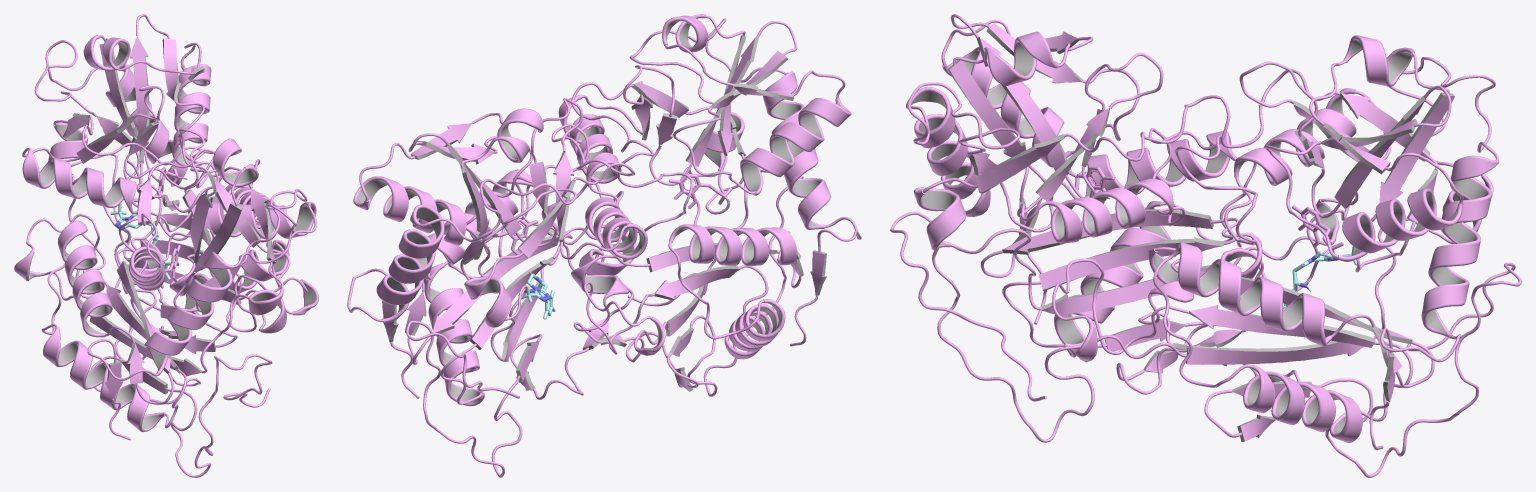
The model's file is Transaminase ERN Poster.gltf.
The picture shows the model from 3 angles, left to right: view 1: azimuth 30°, elevation 25°; view 2: azimuth 150°, elevation 25°; view 3: azimuth 270°, elevation 25°; orthographic projection. The views are drawn at different scales.
Visible parts, largest first — view 1: node-geom133, node-geom135, node-geom136, node-geom134, node-geom132, node-geom137; view 2: node-geom136, node-geom133, node-geom134, node-geom132, node-geom135, node-geom137; view 3: node-geom134, node-geom133, node-geom132, node-geom135, node-geom136.
Boxes of the visible parts, box(x1,y1,x2,y2) form: node-geom133: box(22, 14, 318, 315); node-geom135: box(14, 159, 316, 432); node-geom136: box(129, 128, 316, 375); node-geom134: box(34, 35, 272, 477); node-geom132: box(68, 154, 307, 360); node-geom137: box(87, 329, 190, 440); node-geom136: box(558, 14, 851, 229); node-geom133: box(353, 98, 647, 361); node-geom134: box(347, 108, 803, 398); node-geom132: box(405, 169, 636, 477); node-geom135: box(559, 81, 797, 359); node-geom137: box(790, 178, 861, 346); node-geom134: box(890, 35, 1499, 450); node-geom133: box(1055, 36, 1493, 364); node-geom132: box(1052, 242, 1521, 477); node-geom135: box(913, 95, 1358, 357); node-geom136: box(906, 14, 1173, 241).
Bounding box in the file's own units: 54.28 × 57.63 × 76.23.
